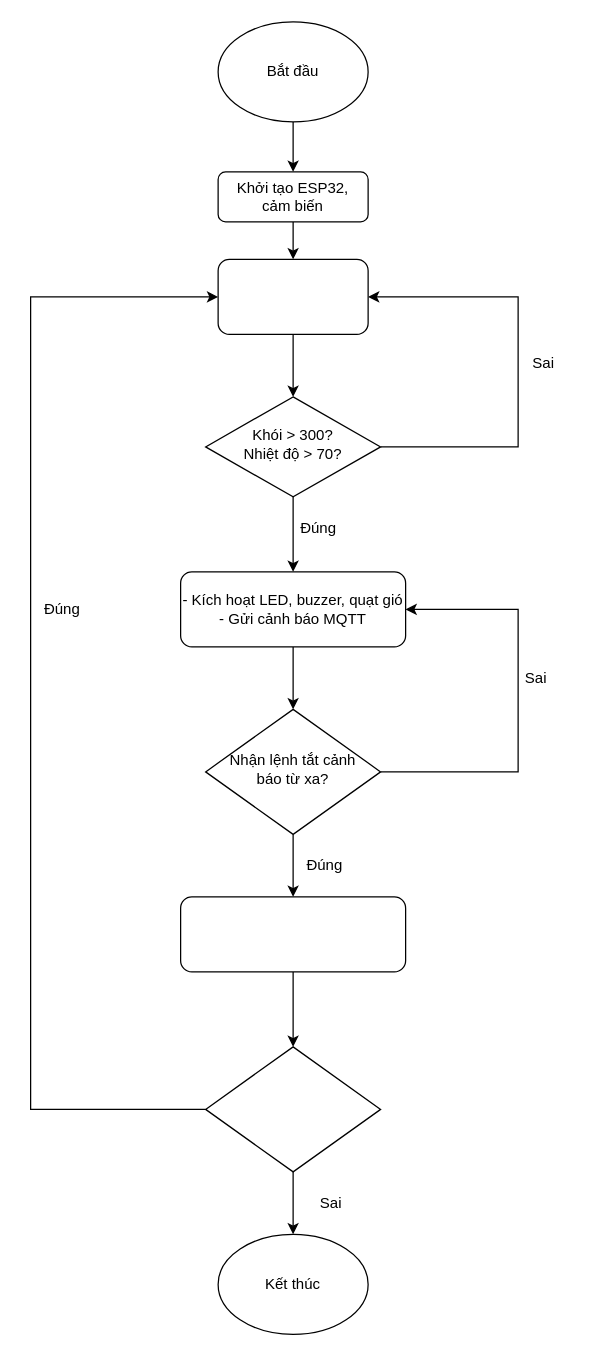
Some shapes in this 590 by 1356 pixel diagram are drawn without their labels. Each missing label, with the centre of its shape:
ESP32 còn hoạt động?: the point at 292,1109
Tắt LED, buzzer, quạt gió: the point at 292,934
Đọc dữ liệu từ cảm biến: the point at 292,296
